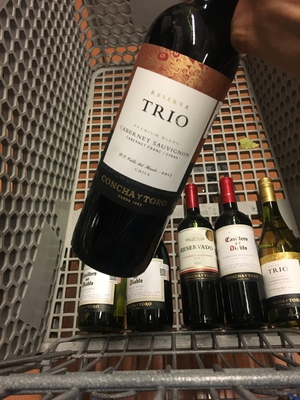trio cabernet sauvignon: (74, 13, 224, 257)
